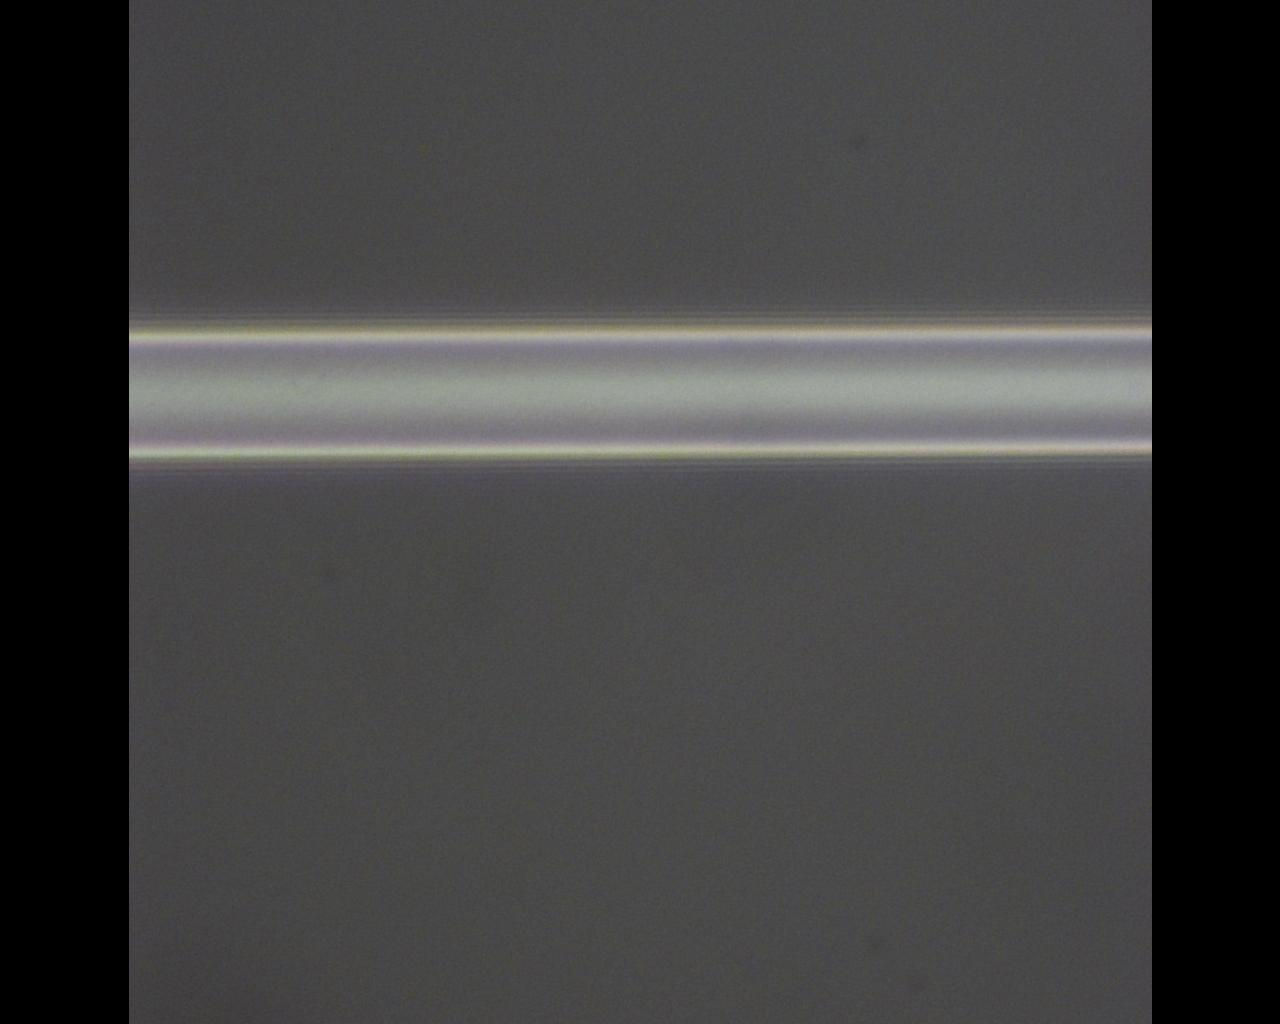fiber: (128, 318, 1152, 461)
